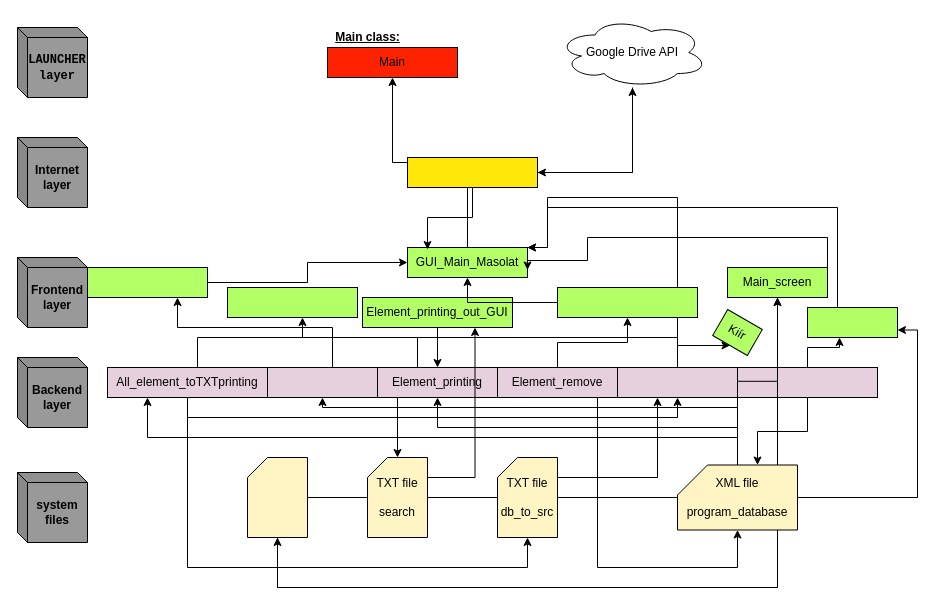
This 943x613 diagram has some shape labels left out. The centre of each missing label's shape, as x and y in pixels:
"DriveQuickstart" goes at (472,172).
"Element_modify" goes at (322,382).
"Element_modify_GUI" goes at (147,282).
"Element_printing_GUI" goes at (292,302).
"Element_remove_GUI" goes at (627,302).
"Full_db_to_screen" goes at (677,382).
"New_element" goes at (852,322).
"New_element_to_node" goes at (807,382).
"TXT file c_variable" goes at (277,497).
